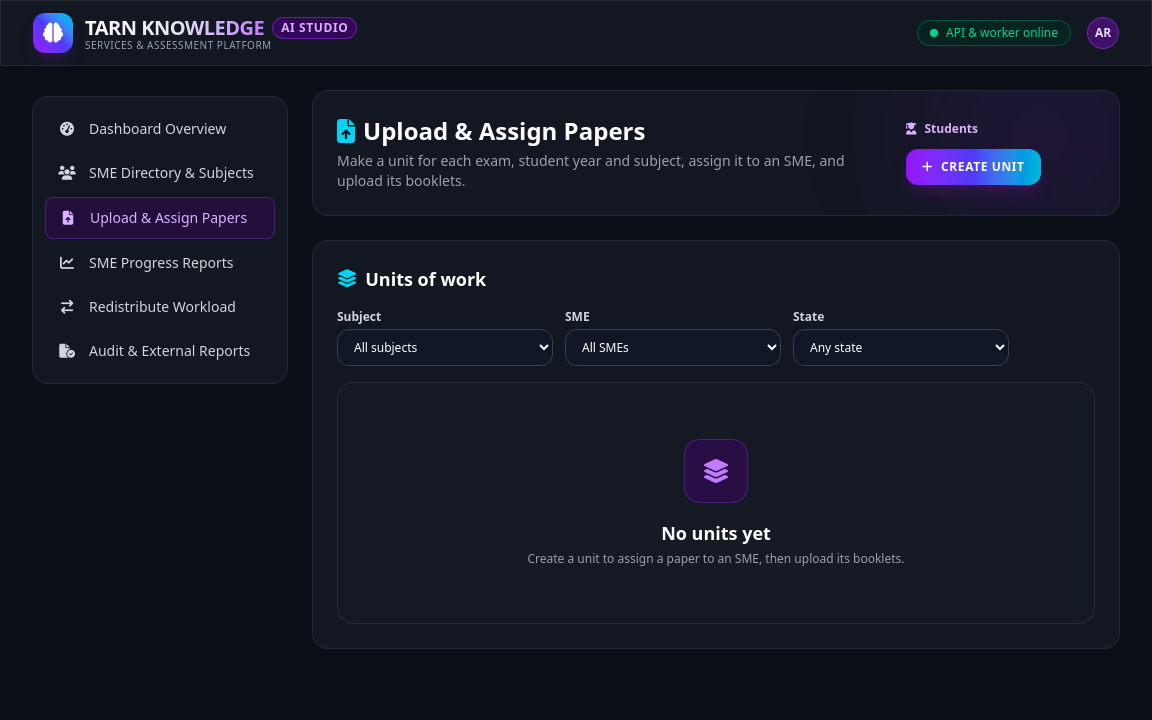
upload & assign papers: units › says why a subject offers nothing
Click the button "Create unit" at (973, 167), box top-left (906, 149), bottom-right (1041, 185)
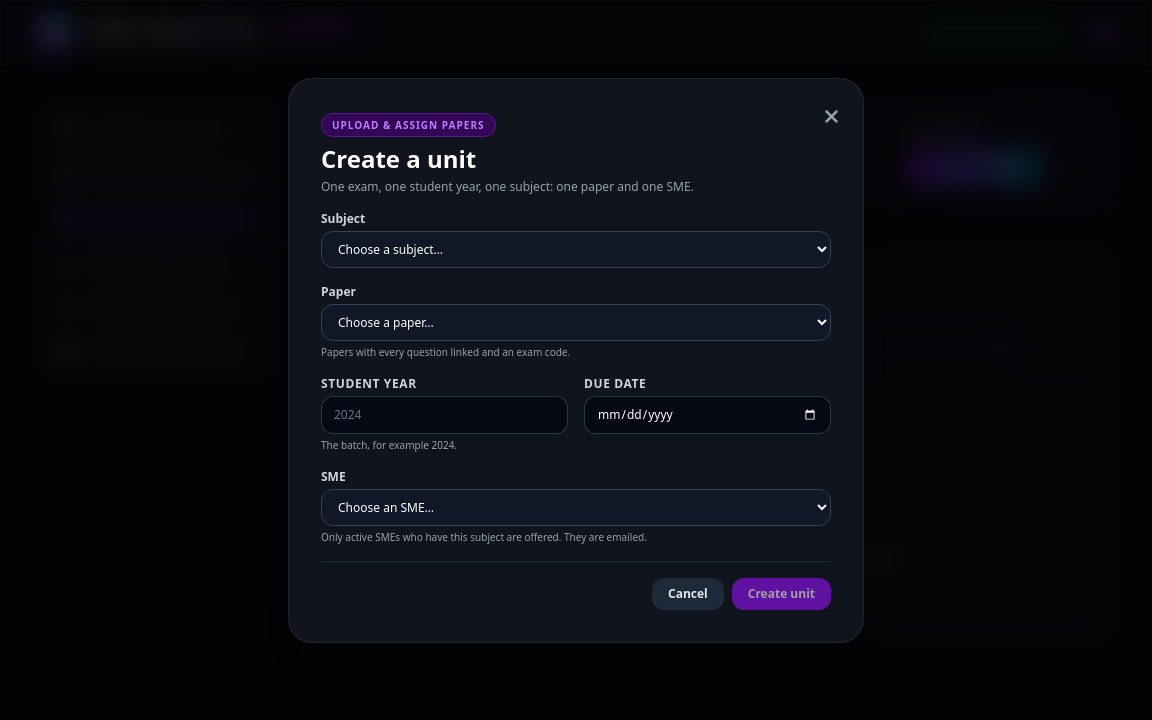
Select "Physics (PHY)" in the dropdown labelled "Subject" at (576, 249), box top-left (321, 230), bottom-right (831, 268)
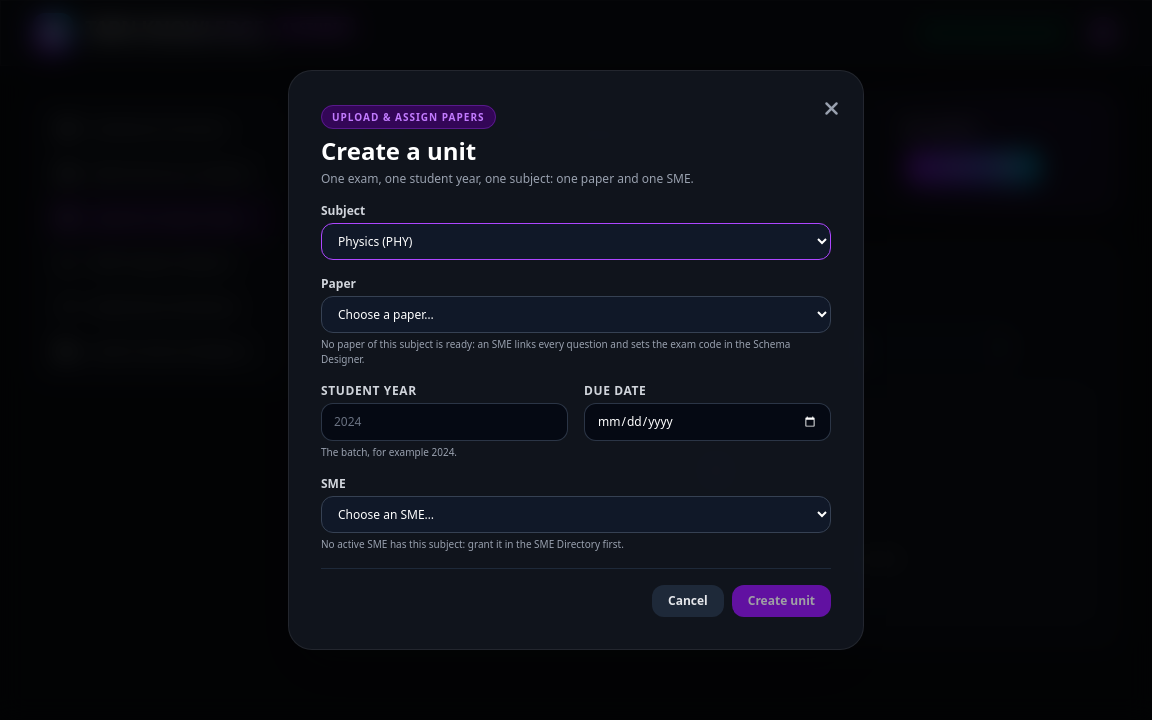
Expected: the text "No paper of this subject is ready" is shown, top-left (321, 337), bottom-right (790, 366)
Expected: the text "No active SME has this subject" is shown, top-left (321, 537), bottom-right (624, 551)
